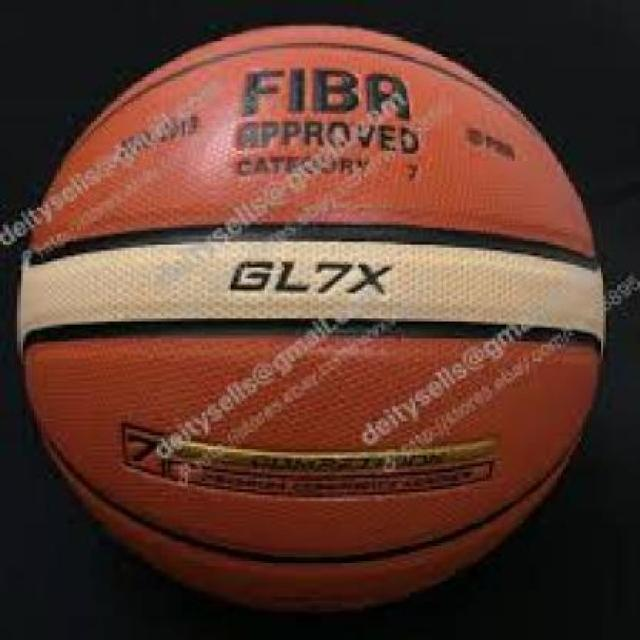basketball: (20, 26, 602, 608)
